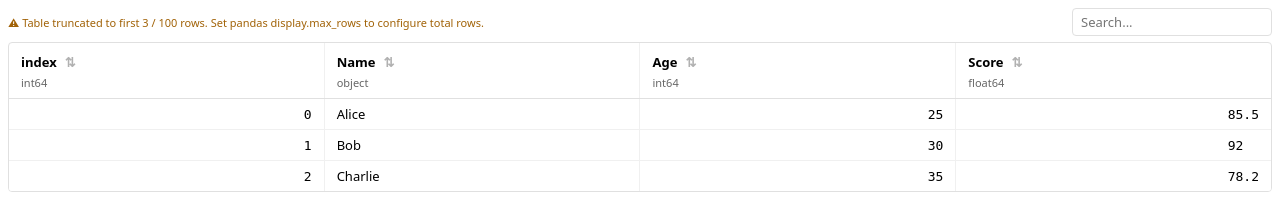
it: MitoViewer › shows match count in row info when searching on truncated data
Type "Alice" into the field with placeholder "Search..." at (1172, 22), box left=1072, top=8, right=1272, bottom=36
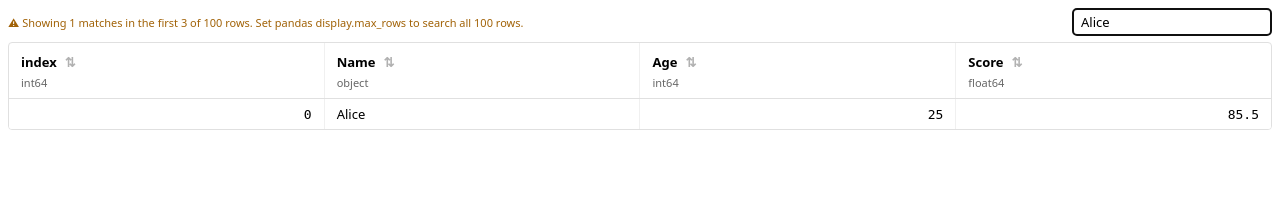
Expected: the text "1 matches in the first" is shown, left=8, top=14, right=523, bottom=30
